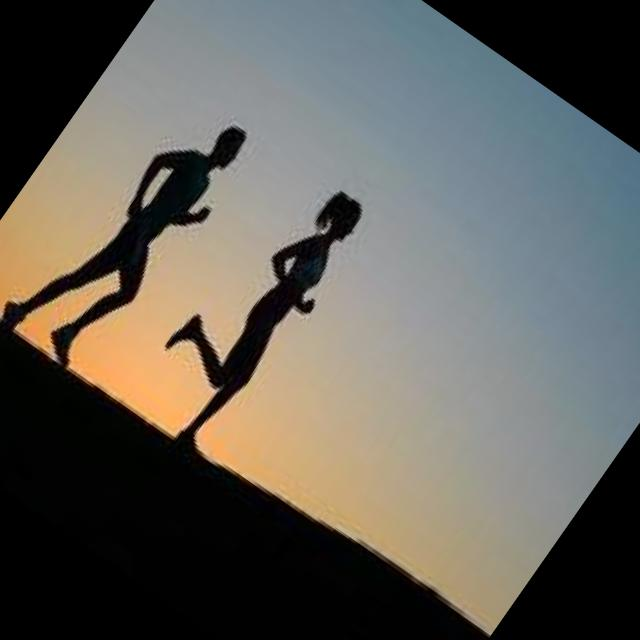Person: (0, 75, 258, 382), (125, 158, 378, 460)
